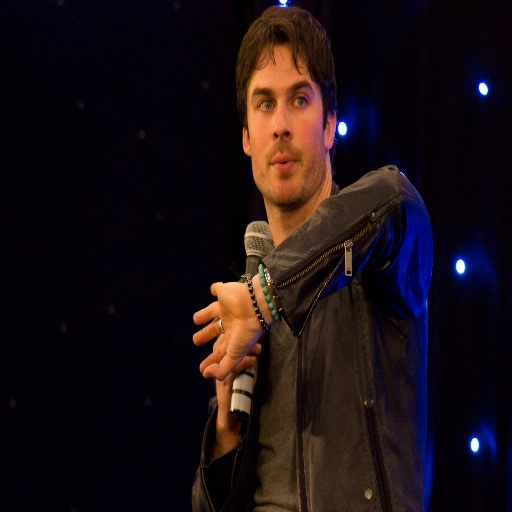hand: (213, 330, 265, 422)
